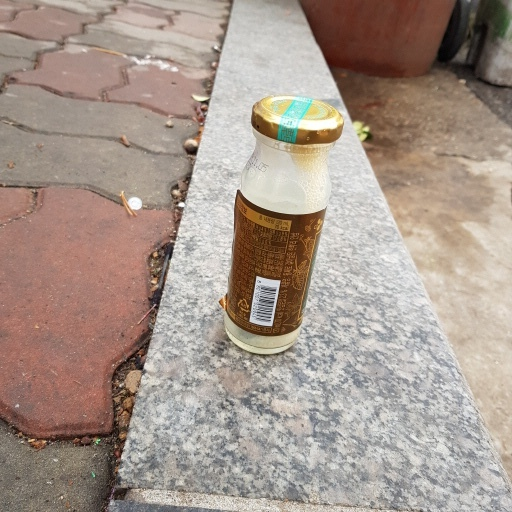Glass_4: (219, 91, 346, 362)
